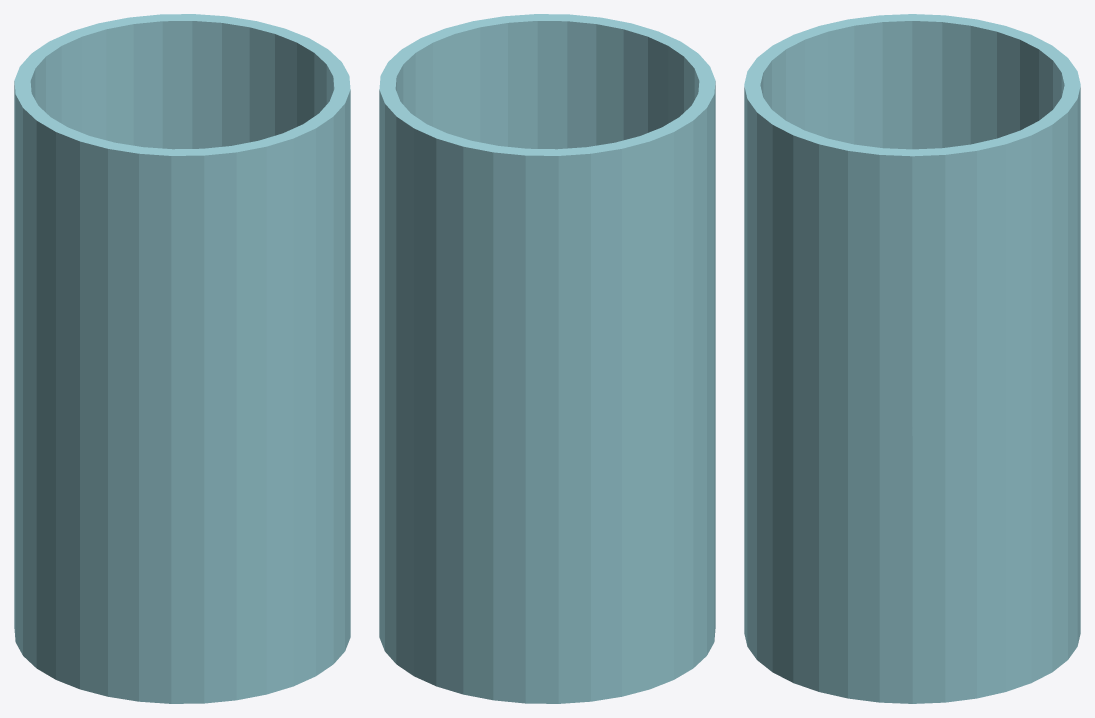
Rendered from Glass.fbx.
3 views of the same model, side by side, from view 1: azimuth 30°, elevation 25°; view 2: azimuth 150°, elevation 25°; view 3: azimuth 270°, elevation 25° (orthographic).
Parts seen in each view (by area): view 1: Cylinder; view 2: Cylinder; view 3: Cylinder.
Part boxes in pixels (left/top/right/bottom): Cylinder: left=14, top=14, right=350, bottom=703; Cylinder: left=379, top=14, right=715, bottom=703; Cylinder: left=744, top=14, right=1080, bottom=703.
Bounding box in the file's own units: 7.63 × 13.69 × 7.63.
